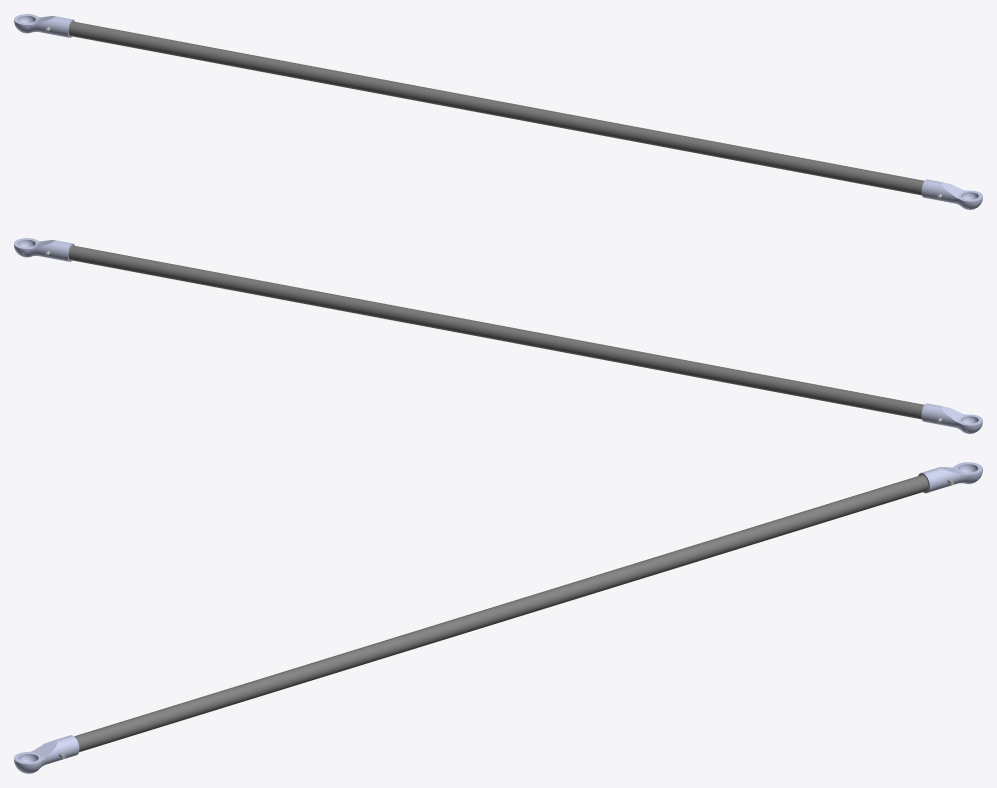
The picture shows the model from 3 angles, top to bottom: view 1: azimuth 30°, elevation 25°; view 2: azimuth 210°, elevation 25°; view 3: azimuth 270°, elevation 25°; orthographic projection. The views are drawn at different scales.
Visible parts, largest first — view 1: IRB360_6-1600-STD-4D_rev03_LA1_1_CAD.step1; view 2: IRB360_6-1600-STD-4D_rev03_LA1_1_CAD.step1; view 3: IRB360_6-1600-STD-4D_rev03_LA1_1_CAD.step1.
Boxes of the visible parts, <box> form: IRB360_6-1600-STD-4D_rev03_LA1_1_CAD.step1: <box>14,14,982,209</box>; IRB360_6-1600-STD-4D_rev03_LA1_1_CAD.step1: <box>14,238,982,433</box>; IRB360_6-1600-STD-4D_rev03_LA1_1_CAD.step1: <box>14,462,982,773</box>.
Size of the model in its own units: 0.6798 by 0.024 by 0.9214.
